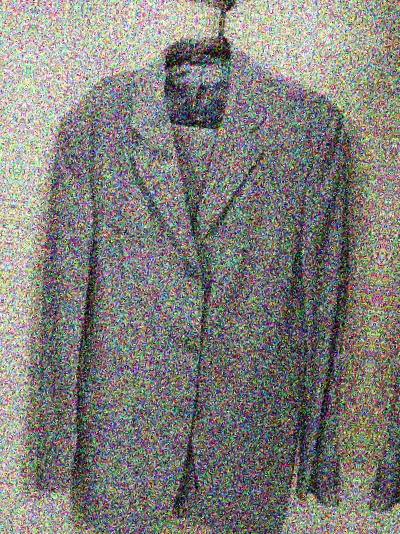Blazer: (1, 28, 386, 534), (366, 69, 400, 534), (62, 0, 400, 19), (0, 0, 9, 520)
